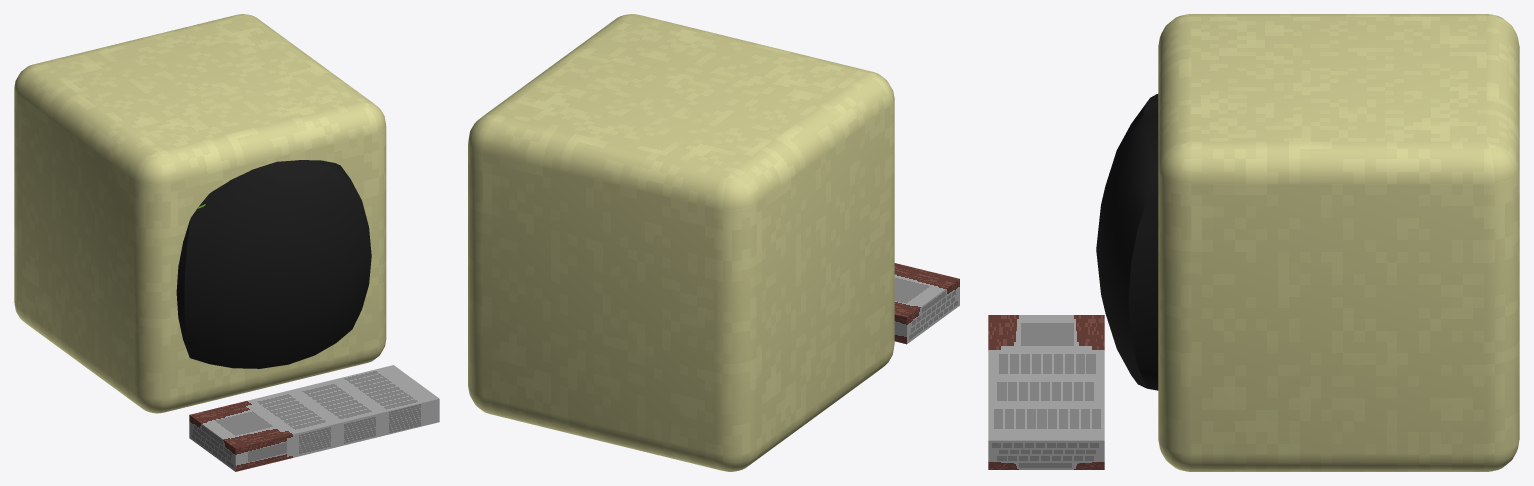
Rendered from terminal.fbx.
3 views of the same model, side by side, from view 1: azimuth 30°, elevation 25°; view 2: azimuth 150°, elevation 25°; view 3: azimuth 270°, elevation 25° (orthographic). The views are drawn at different scales.
Parts seen in each view (by area): view 1: Monitor, Screen, Keyboard; view 2: Monitor, Keyboard; view 3: Monitor, Keyboard, Screen.
Boxes of the visible parts, bbox=[...] form: Monitor: bbox=[14, 14, 386, 413]; Screen: bbox=[176, 160, 371, 368]; Keyboard: bbox=[189, 365, 439, 471]; Monitor: bbox=[468, 14, 894, 471]; Keyboard: bbox=[894, 263, 959, 344]; Monitor: bbox=[1158, 14, 1519, 471]; Keyboard: bbox=[988, 315, 1104, 469]; Screen: bbox=[1096, 94, 1158, 390].
Bounding box in the file's own units: 55.26 × 55.52 × 81.24.
Materials: 3 (3 with a texture image).
